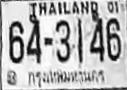1: (76, 18, 83, 62)
3: (54, 20, 70, 62)
4: (26, 19, 41, 63), (89, 18, 104, 61)
6: (105, 17, 120, 60), (8, 21, 23, 62)
BKK: (24, 67, 107, 87)
